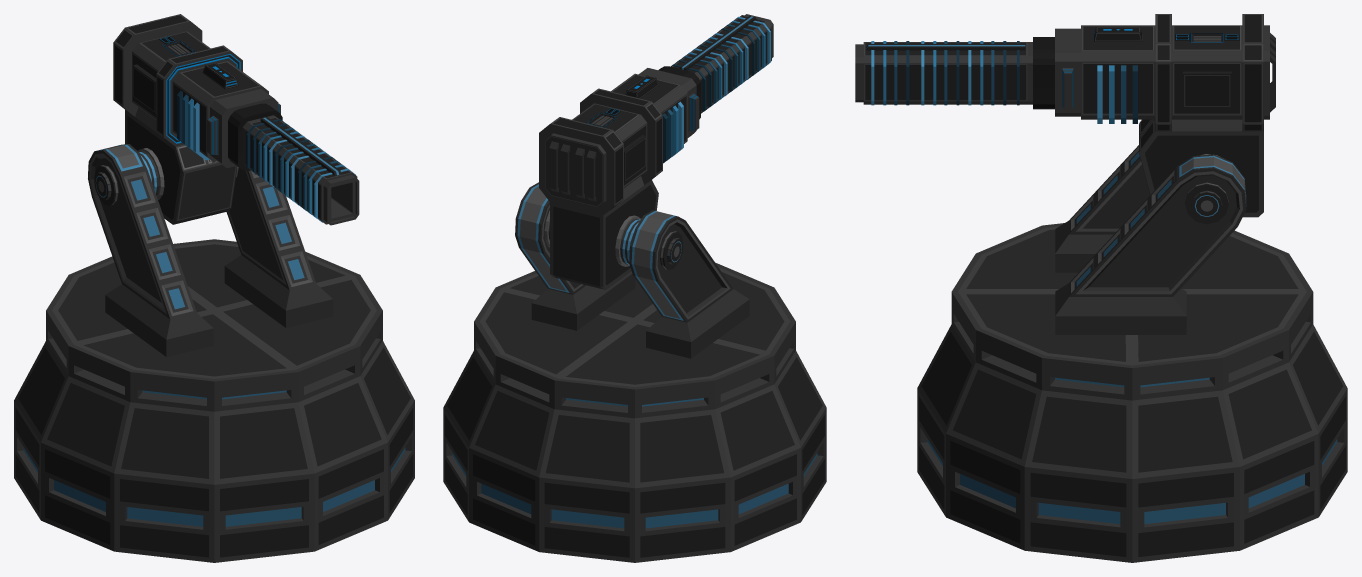
3 views of the same model, side by side, from view 1: azimuth 30°, elevation 25°; view 2: azimuth 150°, elevation 25°; view 3: azimuth 270°, elevation 25° (orthographic). The views are drawn at different scales.
Parts seen in each view (by area): view 1: PTL, LT1, NTL; view 2: PTL, LT1, NTL; view 3: PTL, LT1, NTL.
Part boxes in pixels (x1,y1,x2,y2): PTL: [14, 239, 414, 562]; LT1: [113, 14, 359, 225]; NTL: [88, 144, 333, 356]; PTL: [443, 262, 826, 562]; LT1: [539, 14, 773, 289]; NTL: [515, 182, 749, 358]; PTL: [917, 223, 1347, 562]; LT1: [855, 14, 1275, 217]; NTL: [1055, 145, 1246, 334].
Bounding box in the file's own units: 782 × 888 × 894.
